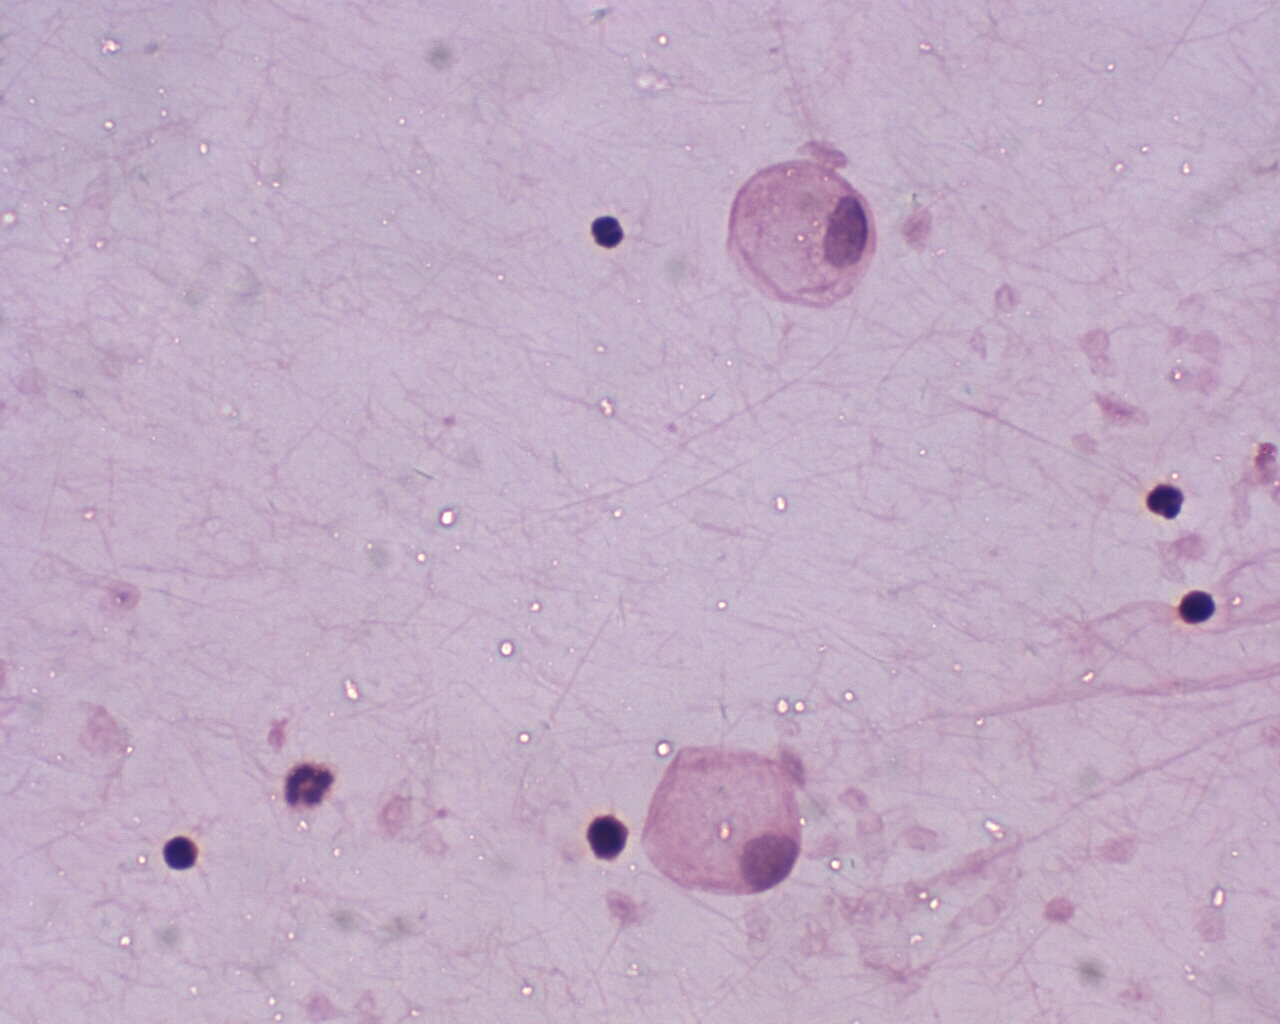histo: (639, 738, 801, 899), (727, 160, 879, 309)
lymph: (577, 811, 631, 862), (583, 210, 628, 252), (159, 833, 202, 871), (1179, 586, 1217, 625)
neutro: (278, 762, 338, 811)
